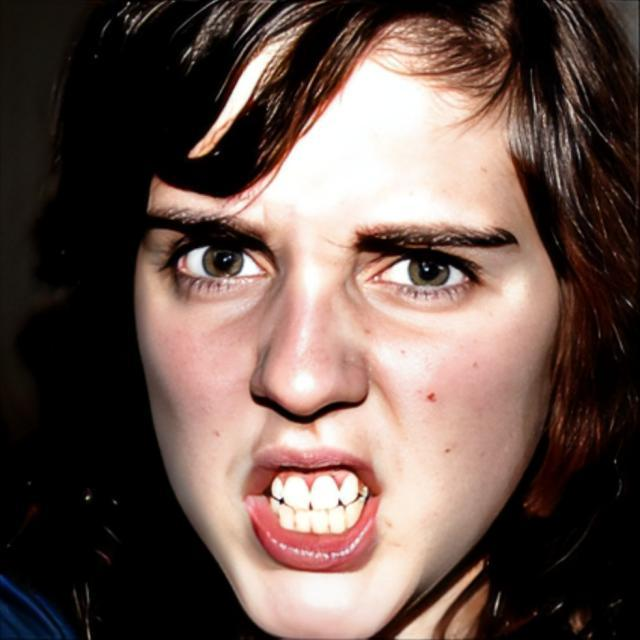anger: (126, 52, 565, 640)
